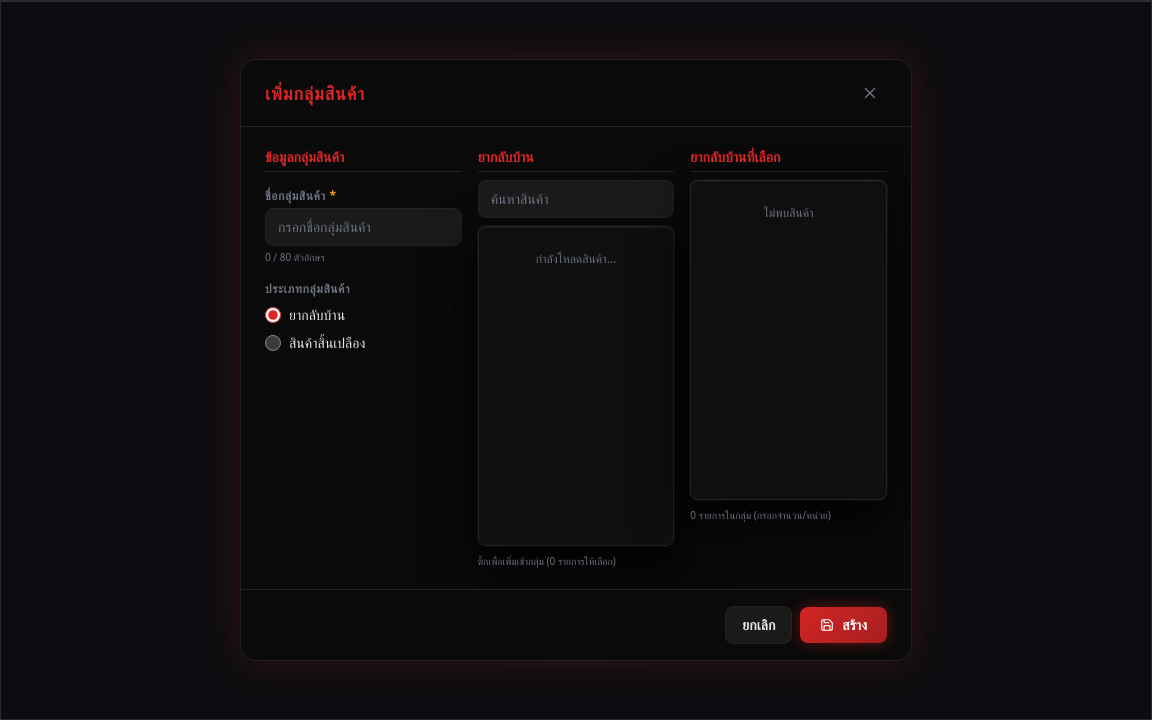
Test: ProductGroupFormModal — PM1..PM10 › PM6: save error surfaces in error banner
The image size is (1152, 720).
Type "X" into the field with placeholder "กรอกชื่อกลุ่มสินค้า" at (363, 227), box x1=265 y1=208 x2=462 y2=246
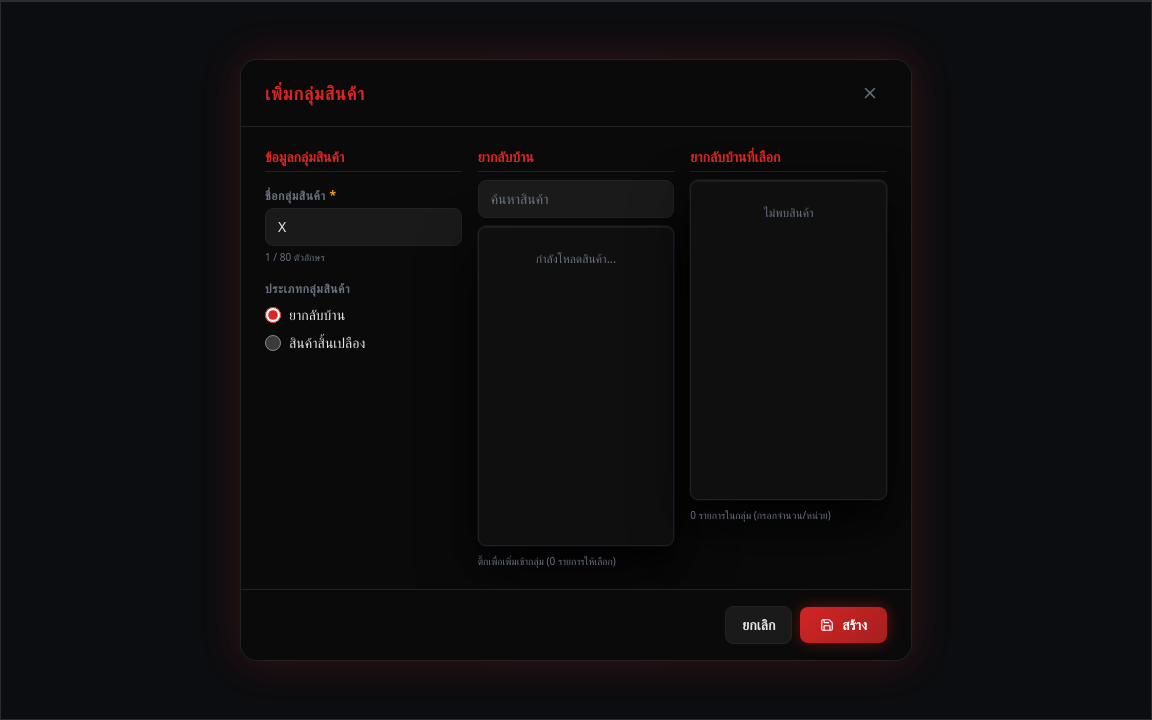
Click the button "สร้าง" at (844, 625), box x1=800 y1=607 x2=887 y2=643
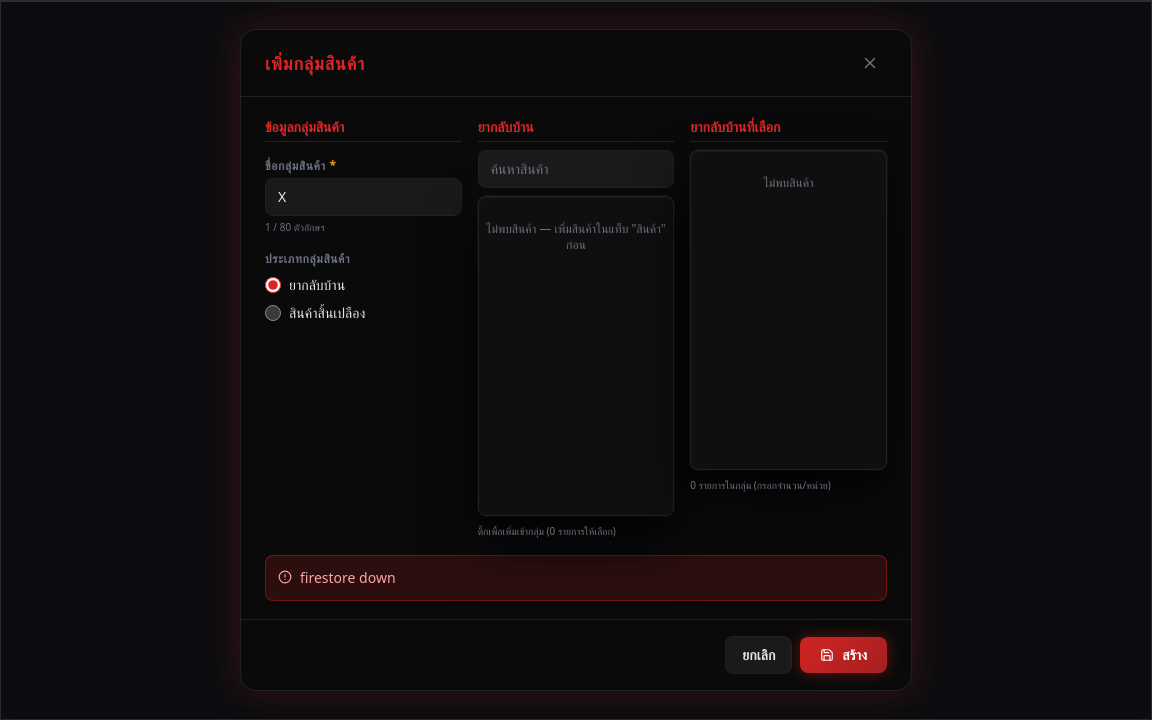
expect the text "firestore down" is shown: met, box x1=300 y1=568 x2=396 y2=588
